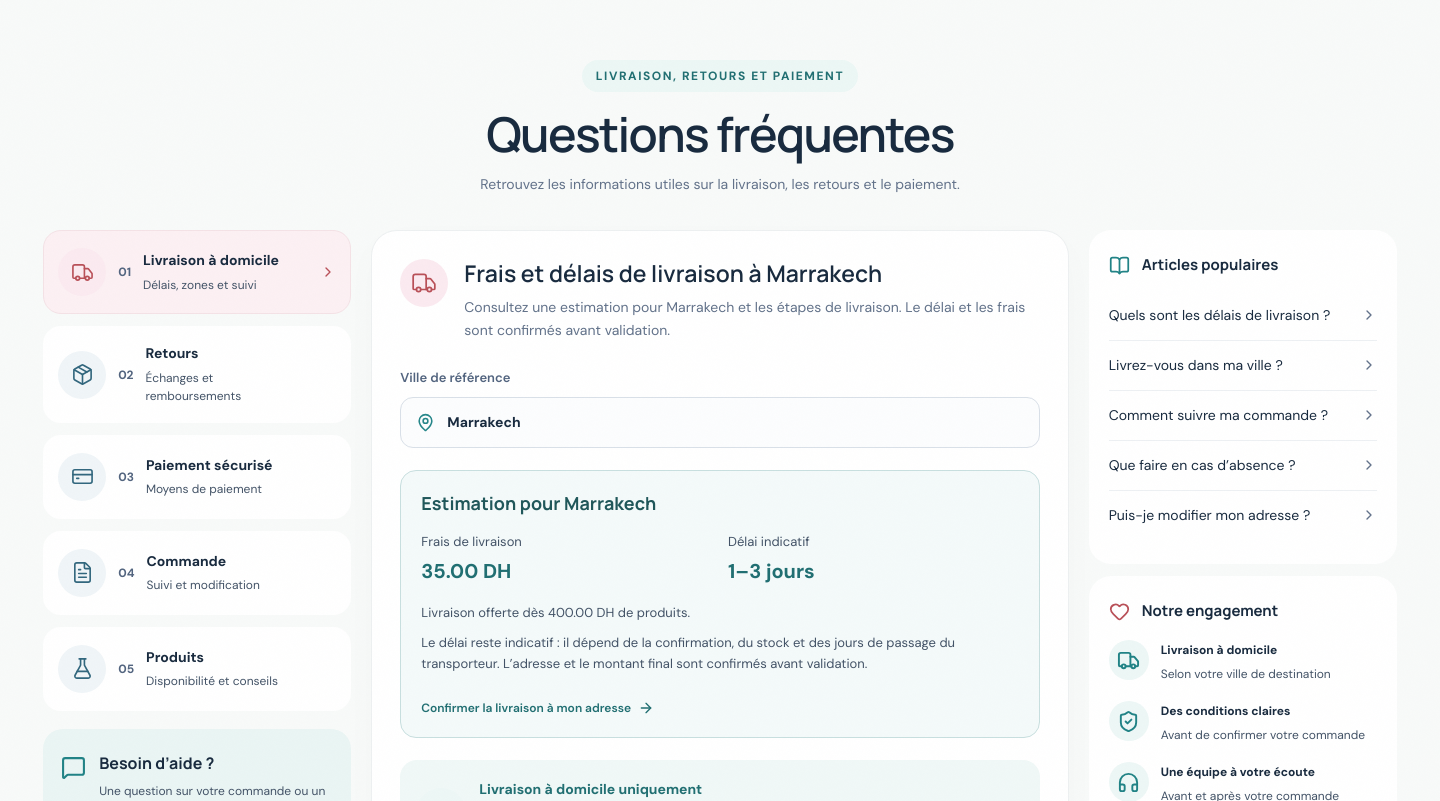
Test: Interactive FAQ redesign › expands and collapses popular answers with accessible state
This screenshot has width=1440, height=801.
Click the button "Quels sont les délais de livraison ?" at (1243, 315), box [1109,291,1377,340]
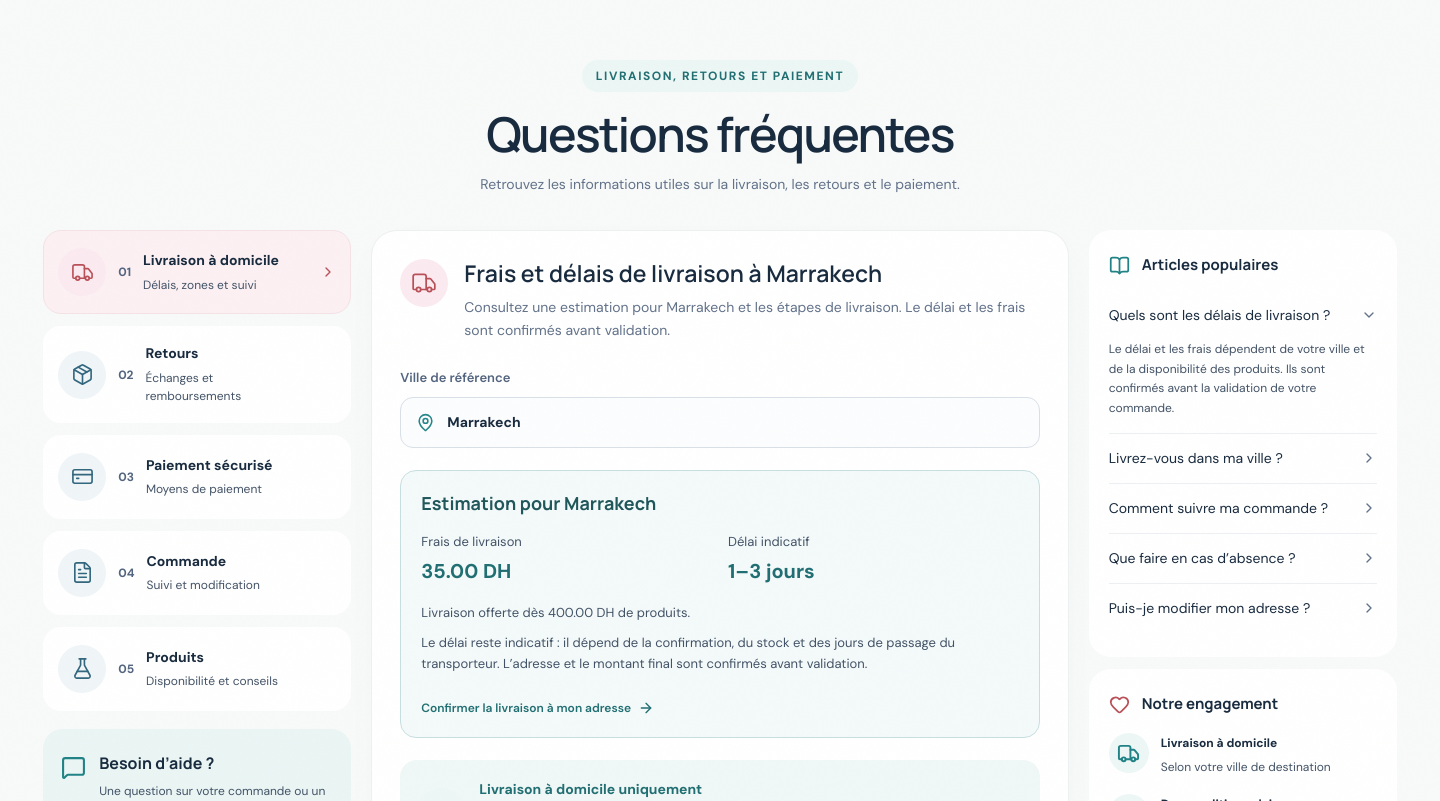
Now the button "Quels sont les délais de livraison ?" is expanded
Click the button "Quels sont les délais de livraison ?" at (1243, 315), box [1109,291,1377,340]
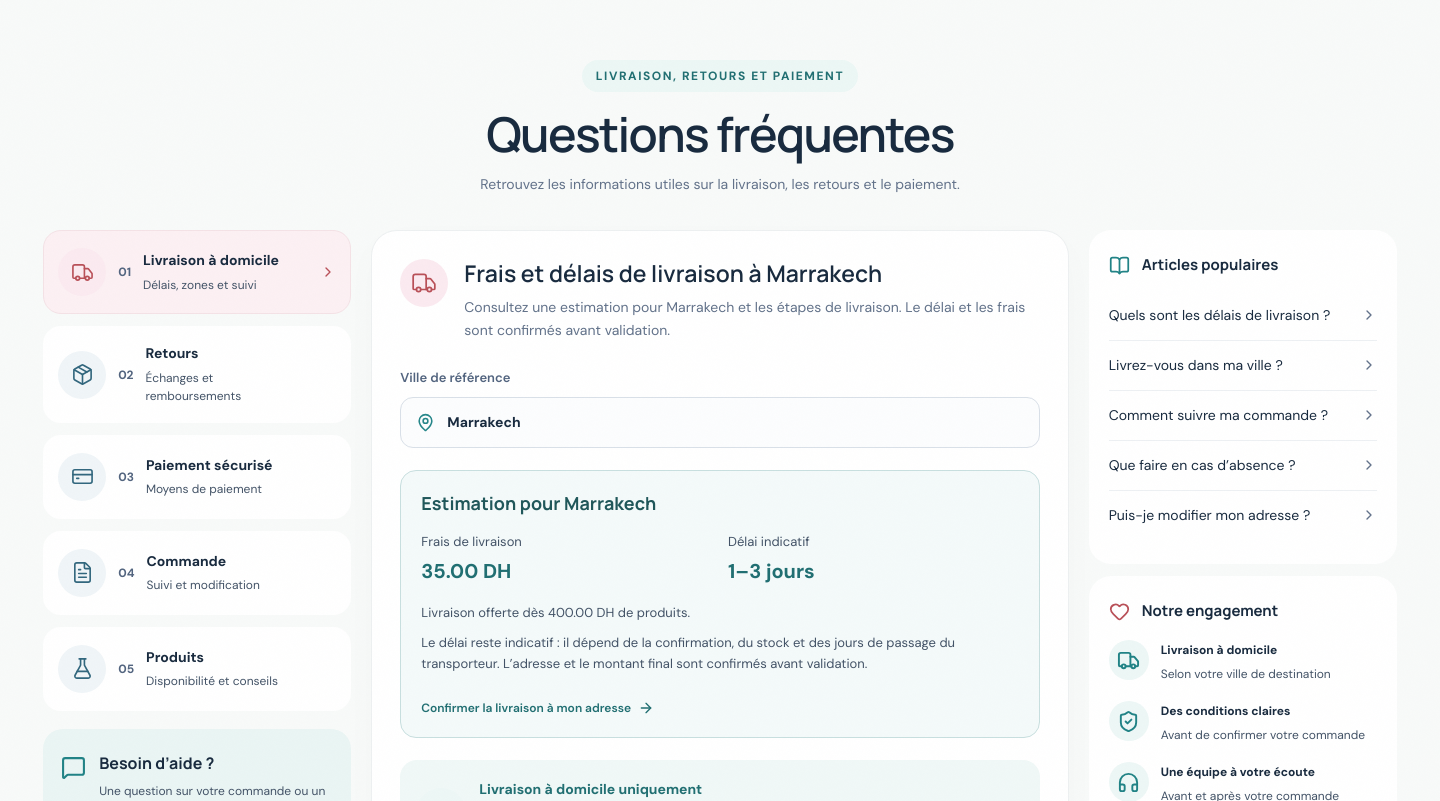
Now the button "Quels sont les délais de livraison ?" is collapsed, box [1109,291,1377,340]
